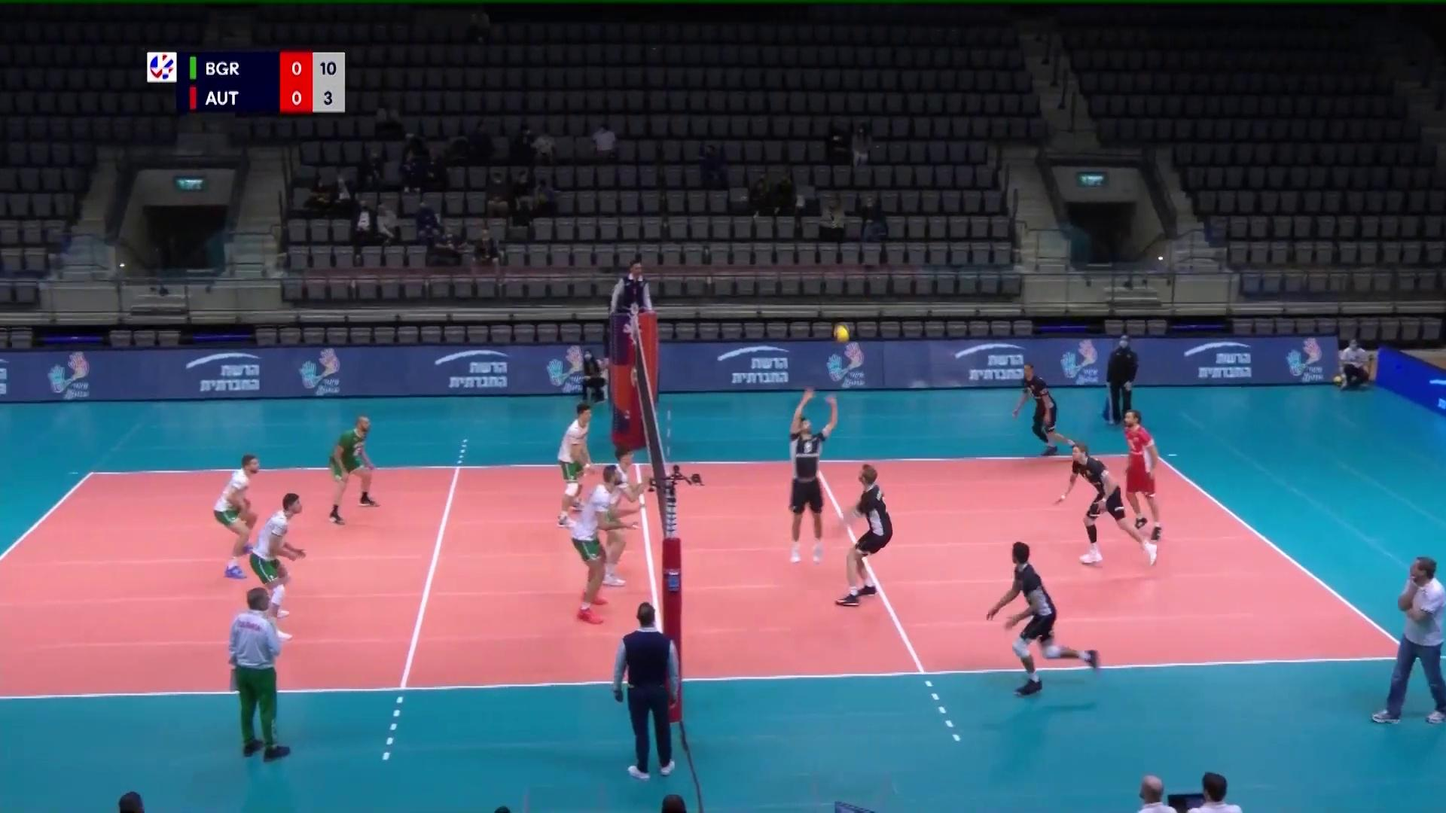ball: (832, 323, 852, 345)
